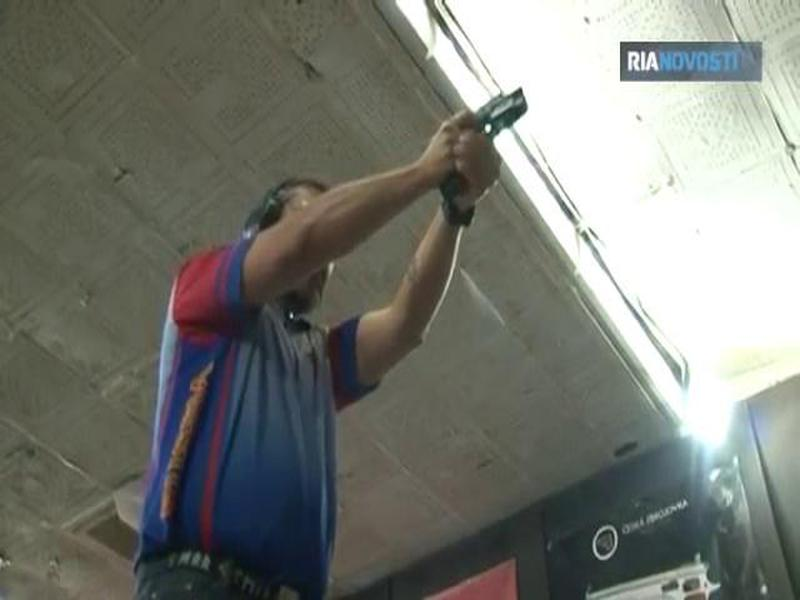Pistola: (421, 84, 542, 224)
